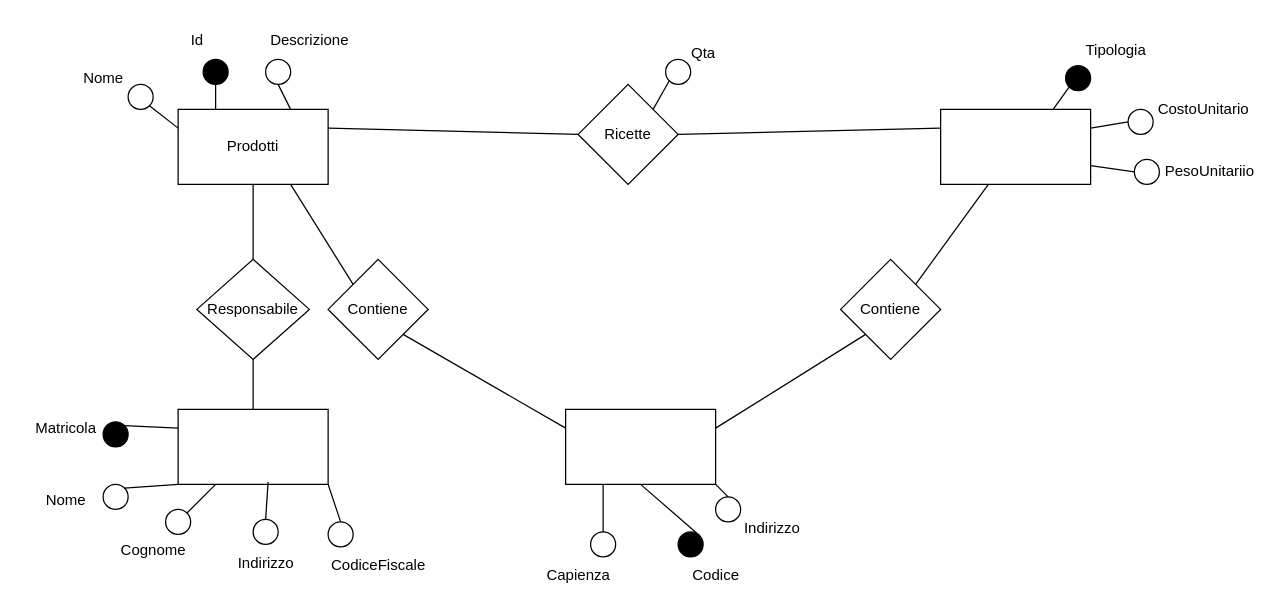
The diagram is 1286 pixels wide and 615 high, and some of its shapes have lost their labels. The centre of each missing label's shape, as x and y in pixels:
"Dipendenti" belongs at point 252,446.
"Magazzini" belongs at point 640,446.
"MateriePrime" belongs at point 1015,146.
